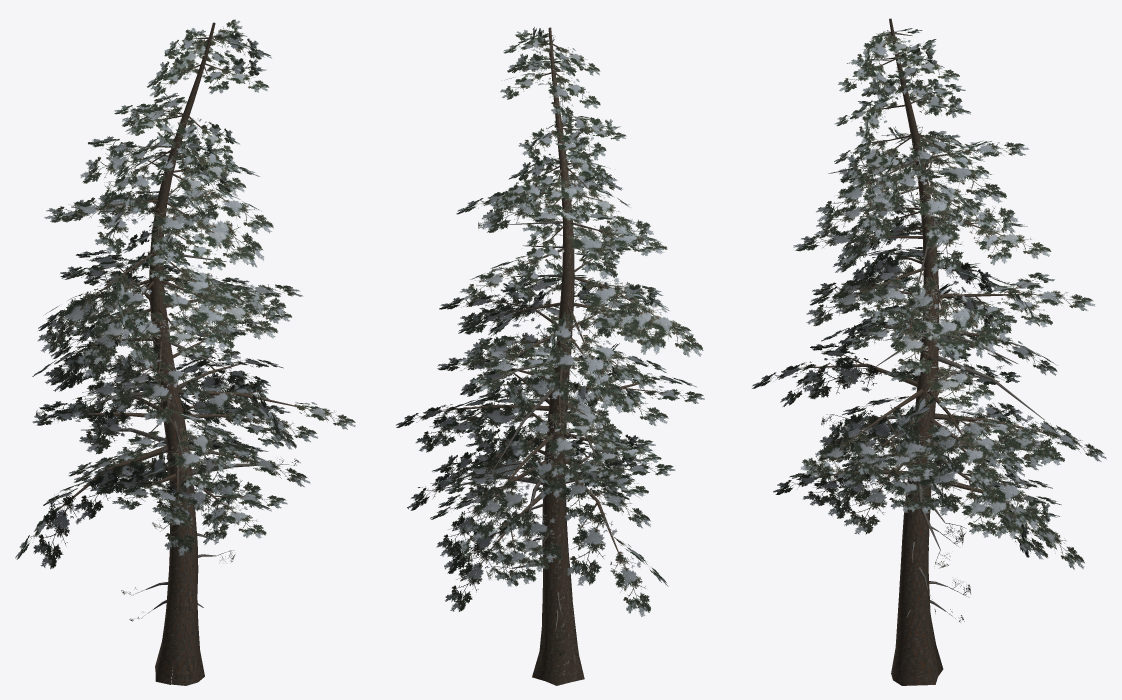
Rendered from tree_v6_pine_mangy_straight_winter.glb.
The picture shows the model from 3 angles, left to right: view 1: azimuth 30°, elevation 25°; view 2: azimuth 150°, elevation 25°; view 3: azimuth 270°, elevation 25°; orthographic projection. The views are drawn at different scales.
Visible parts, largest first — view 1: tree_v6_pine_mangy_straight_winter_LOD0; view 2: tree_v6_pine_mangy_straight_winter_LOD0; view 3: tree_v6_pine_mangy_straight_winter_LOD0.
Part boxes in pixels (left/top/right/bottom): tree_v6_pine_mangy_straight_winter_LOD0: left=15, top=19, right=355, bottom=685; tree_v6_pine_mangy_straight_winter_LOD0: left=396, top=27, right=704, bottom=685; tree_v6_pine_mangy_straight_winter_LOD0: left=752, top=18, right=1106, bottom=685.
Size of what is drawn, in the model's own units: 6.03 by 13.27 by 6.48.
1 material, 1 textured.
